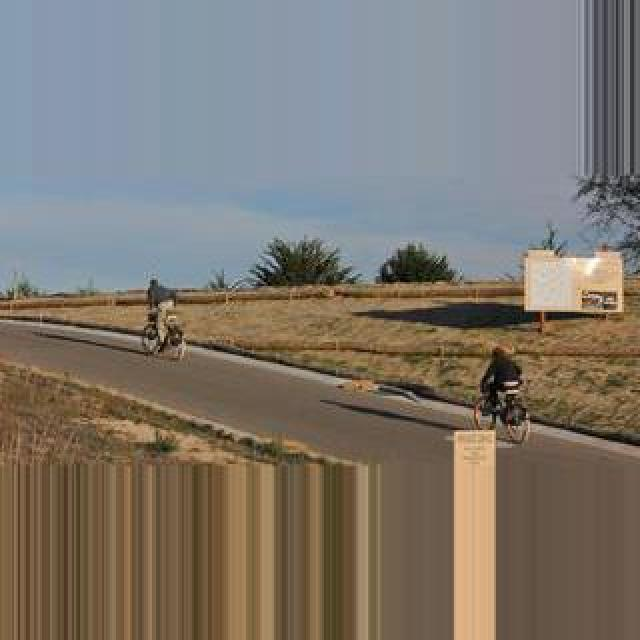Emergency Vehicles-Bike: (474, 352, 530, 446)
Person: (476, 384, 532, 444), (142, 310, 186, 360)
